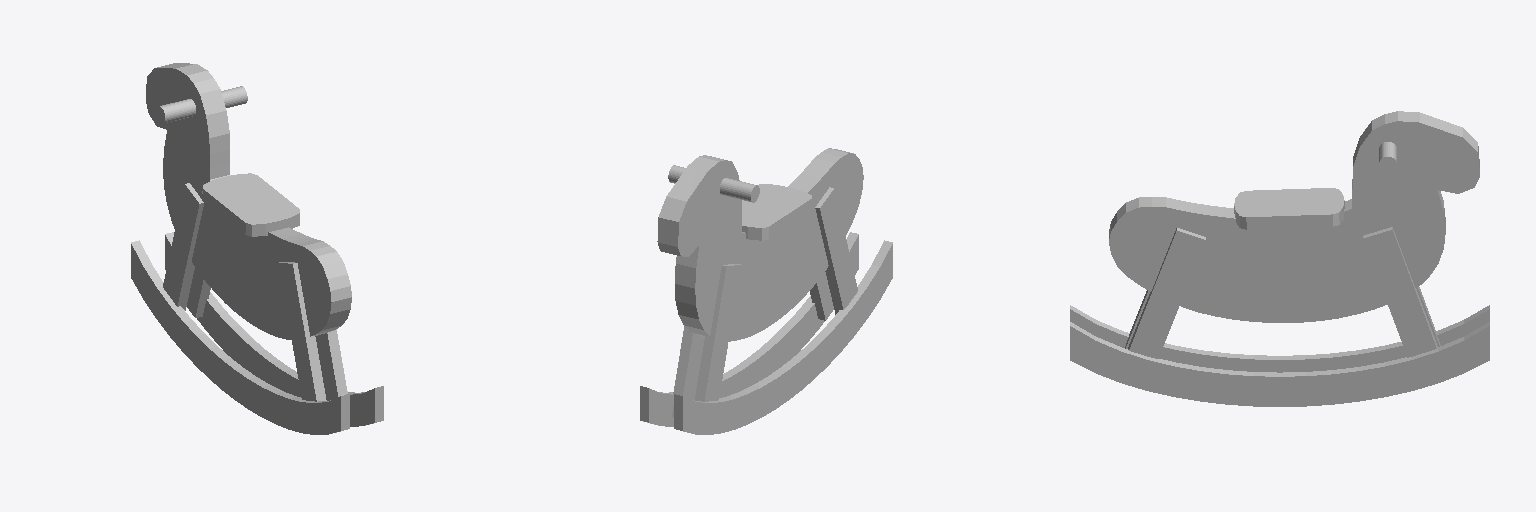
The model's file is horse.obj.
3 renders of one model, left to right at view 1: azimuth 30°, elevation 25°; view 2: azimuth 150°, elevation 25°; view 3: azimuth 270°, elevation 25°, orthographic.
Visible parts, largest first — view 1: Cube.006_Cube.007; view 2: Cube.006_Cube.007; view 3: Cube.006_Cube.007.
Part boxes in pixels (left/top/right/bottom): Cube.006_Cube.007: left=131, top=63, right=383, bottom=434; Cube.006_Cube.007: left=640, top=148, right=892, bottom=434; Cube.006_Cube.007: left=1070, top=111, right=1489, bottom=406.
Size of the model in its own units: 0.5371 by 1.74 by 2.37.